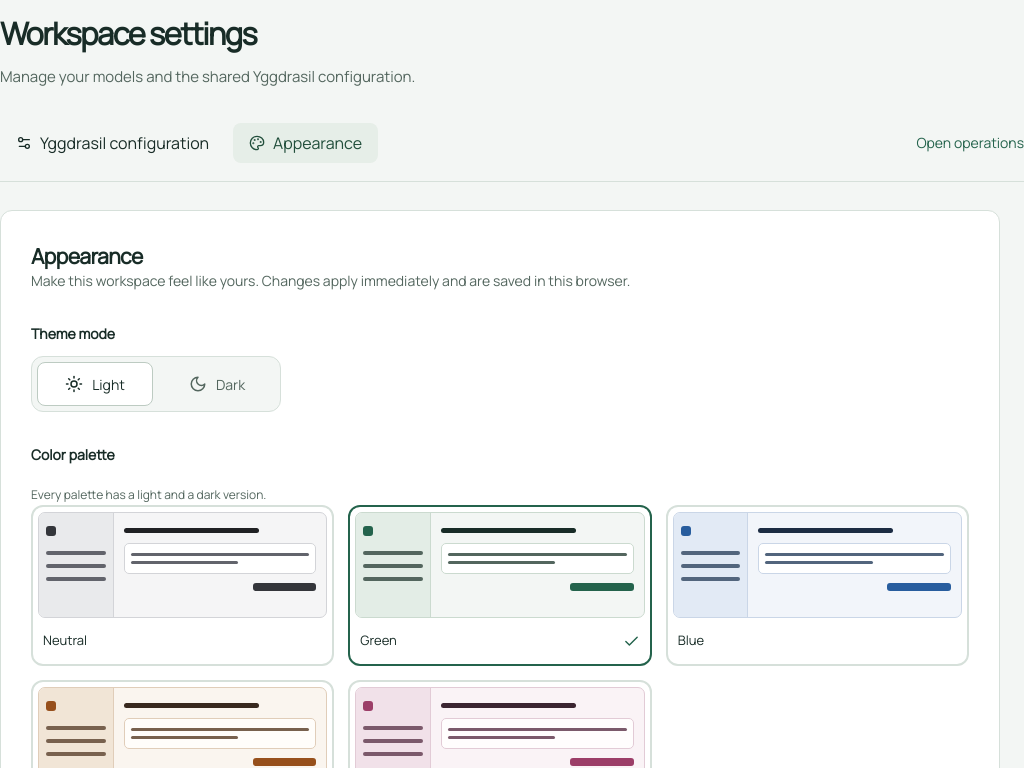
Test: offers all five palettes in settings and preserves the palette across mode changes
The image size is (1024, 768).
Click the radio button labelled "Blue" at (817, 586), box left=666, top=506, right=969, bottom=666
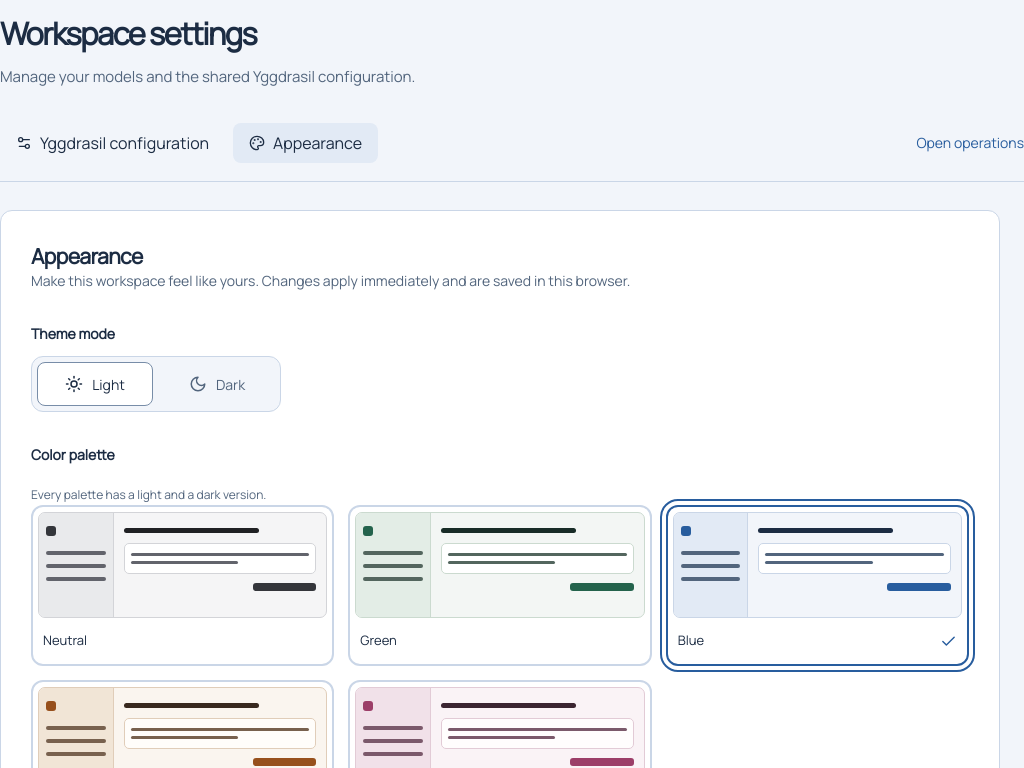
Click the radio button labelled "Dark" at (217, 384), box left=189, top=375, right=245, bottom=394
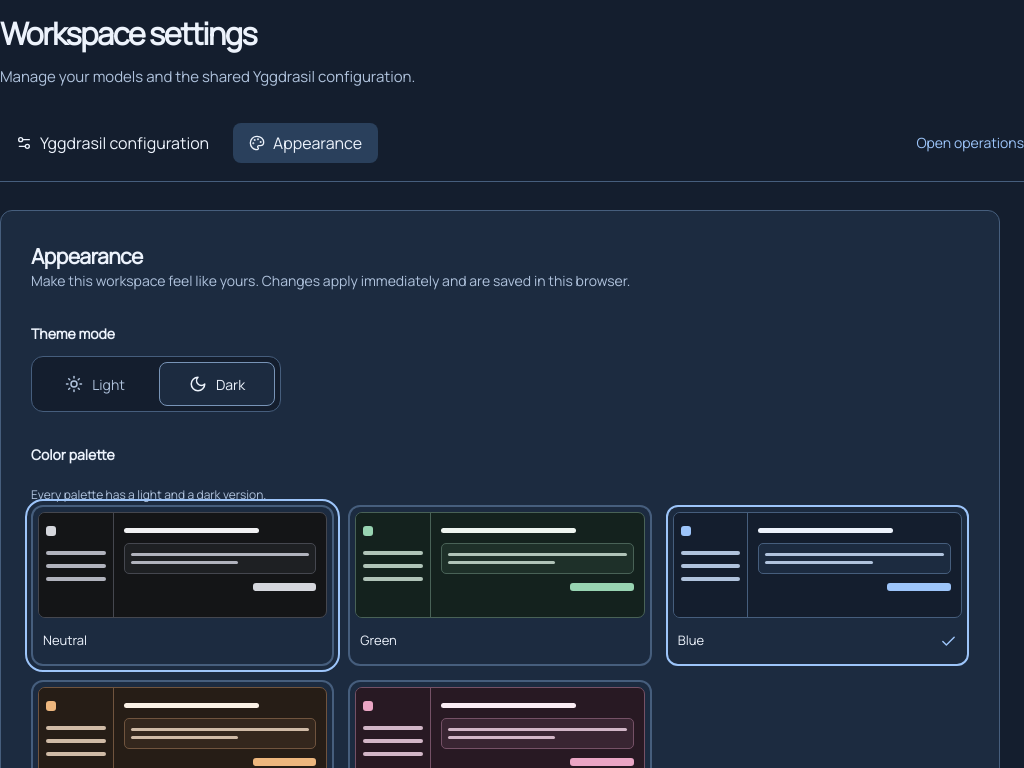
Expected: the radio button labelled "Blue" is checked, left=666, top=506, right=969, bottom=666
Type keys " "
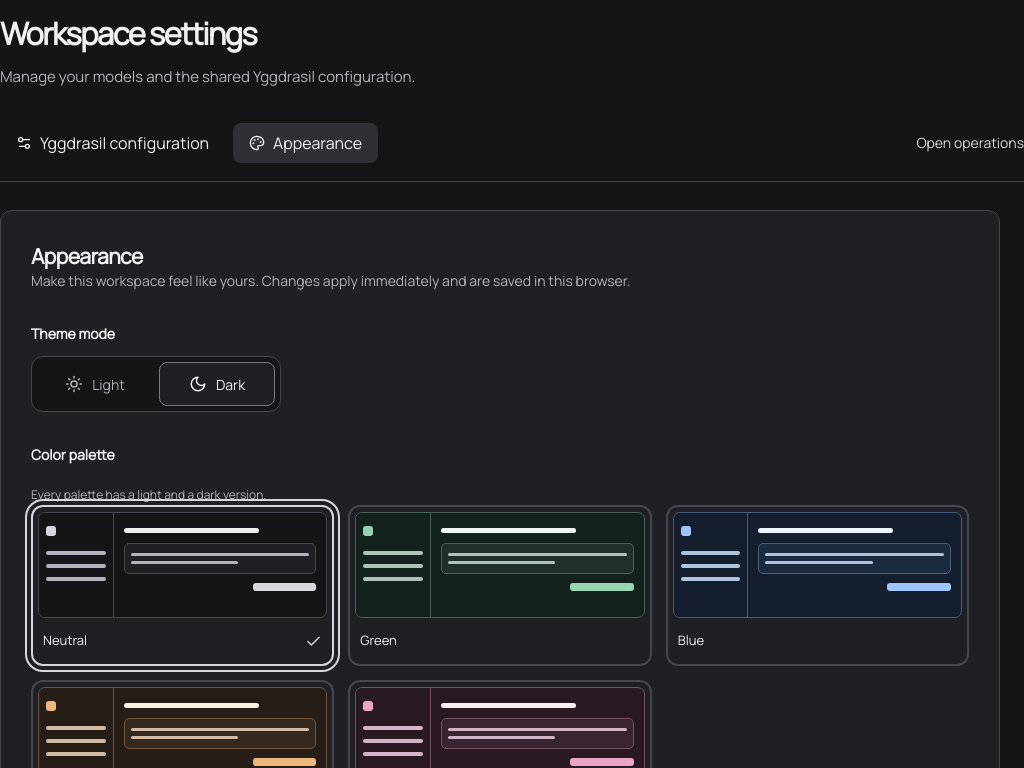
Expected: the radio button labelled "Neutral" is checked, left=31, top=506, right=334, bottom=666
